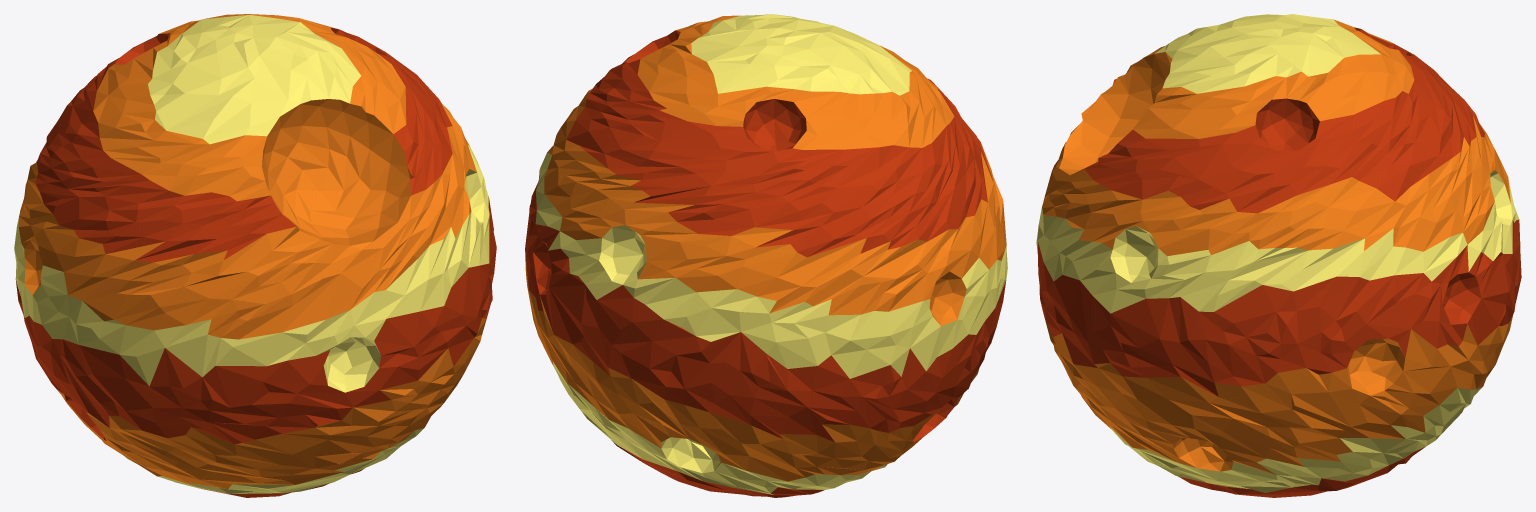
Rendered from Planet_27.glb.
The picture shows the model from 3 angles, left to right: view 1: azimuth 30°, elevation 25°; view 2: azimuth 150°, elevation 25°; view 3: azimuth 270°, elevation 25°; orthographic projection.
Visible parts, largest first — view 1: Planet_27; view 2: Planet_27; view 3: Planet_27.
Boxes of the visible parts, x1,y1,x2,y2 form: Planet_27: [14, 14, 496, 497]; Planet_27: [525, 14, 1007, 497]; Planet_27: [1036, 14, 1521, 497].
Bounding box in the file's own units: 20.04 × 20.12 × 20.11.
1 material, 1 textured.
